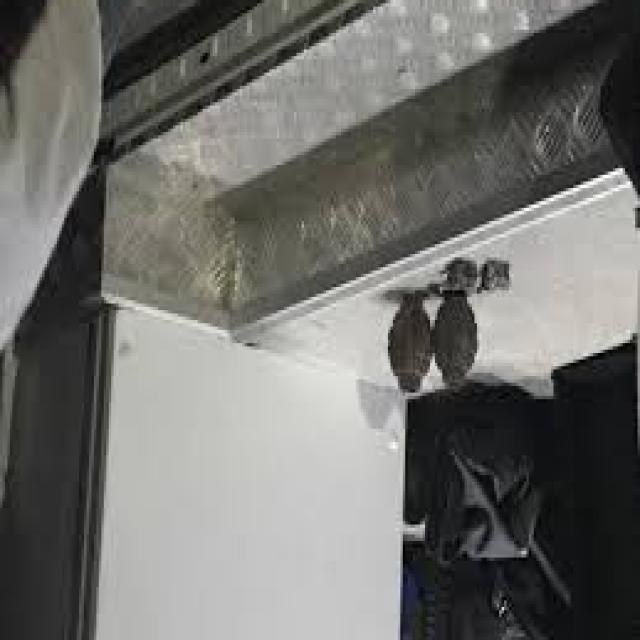grenade: (433, 291, 482, 392), (389, 295, 434, 397)
